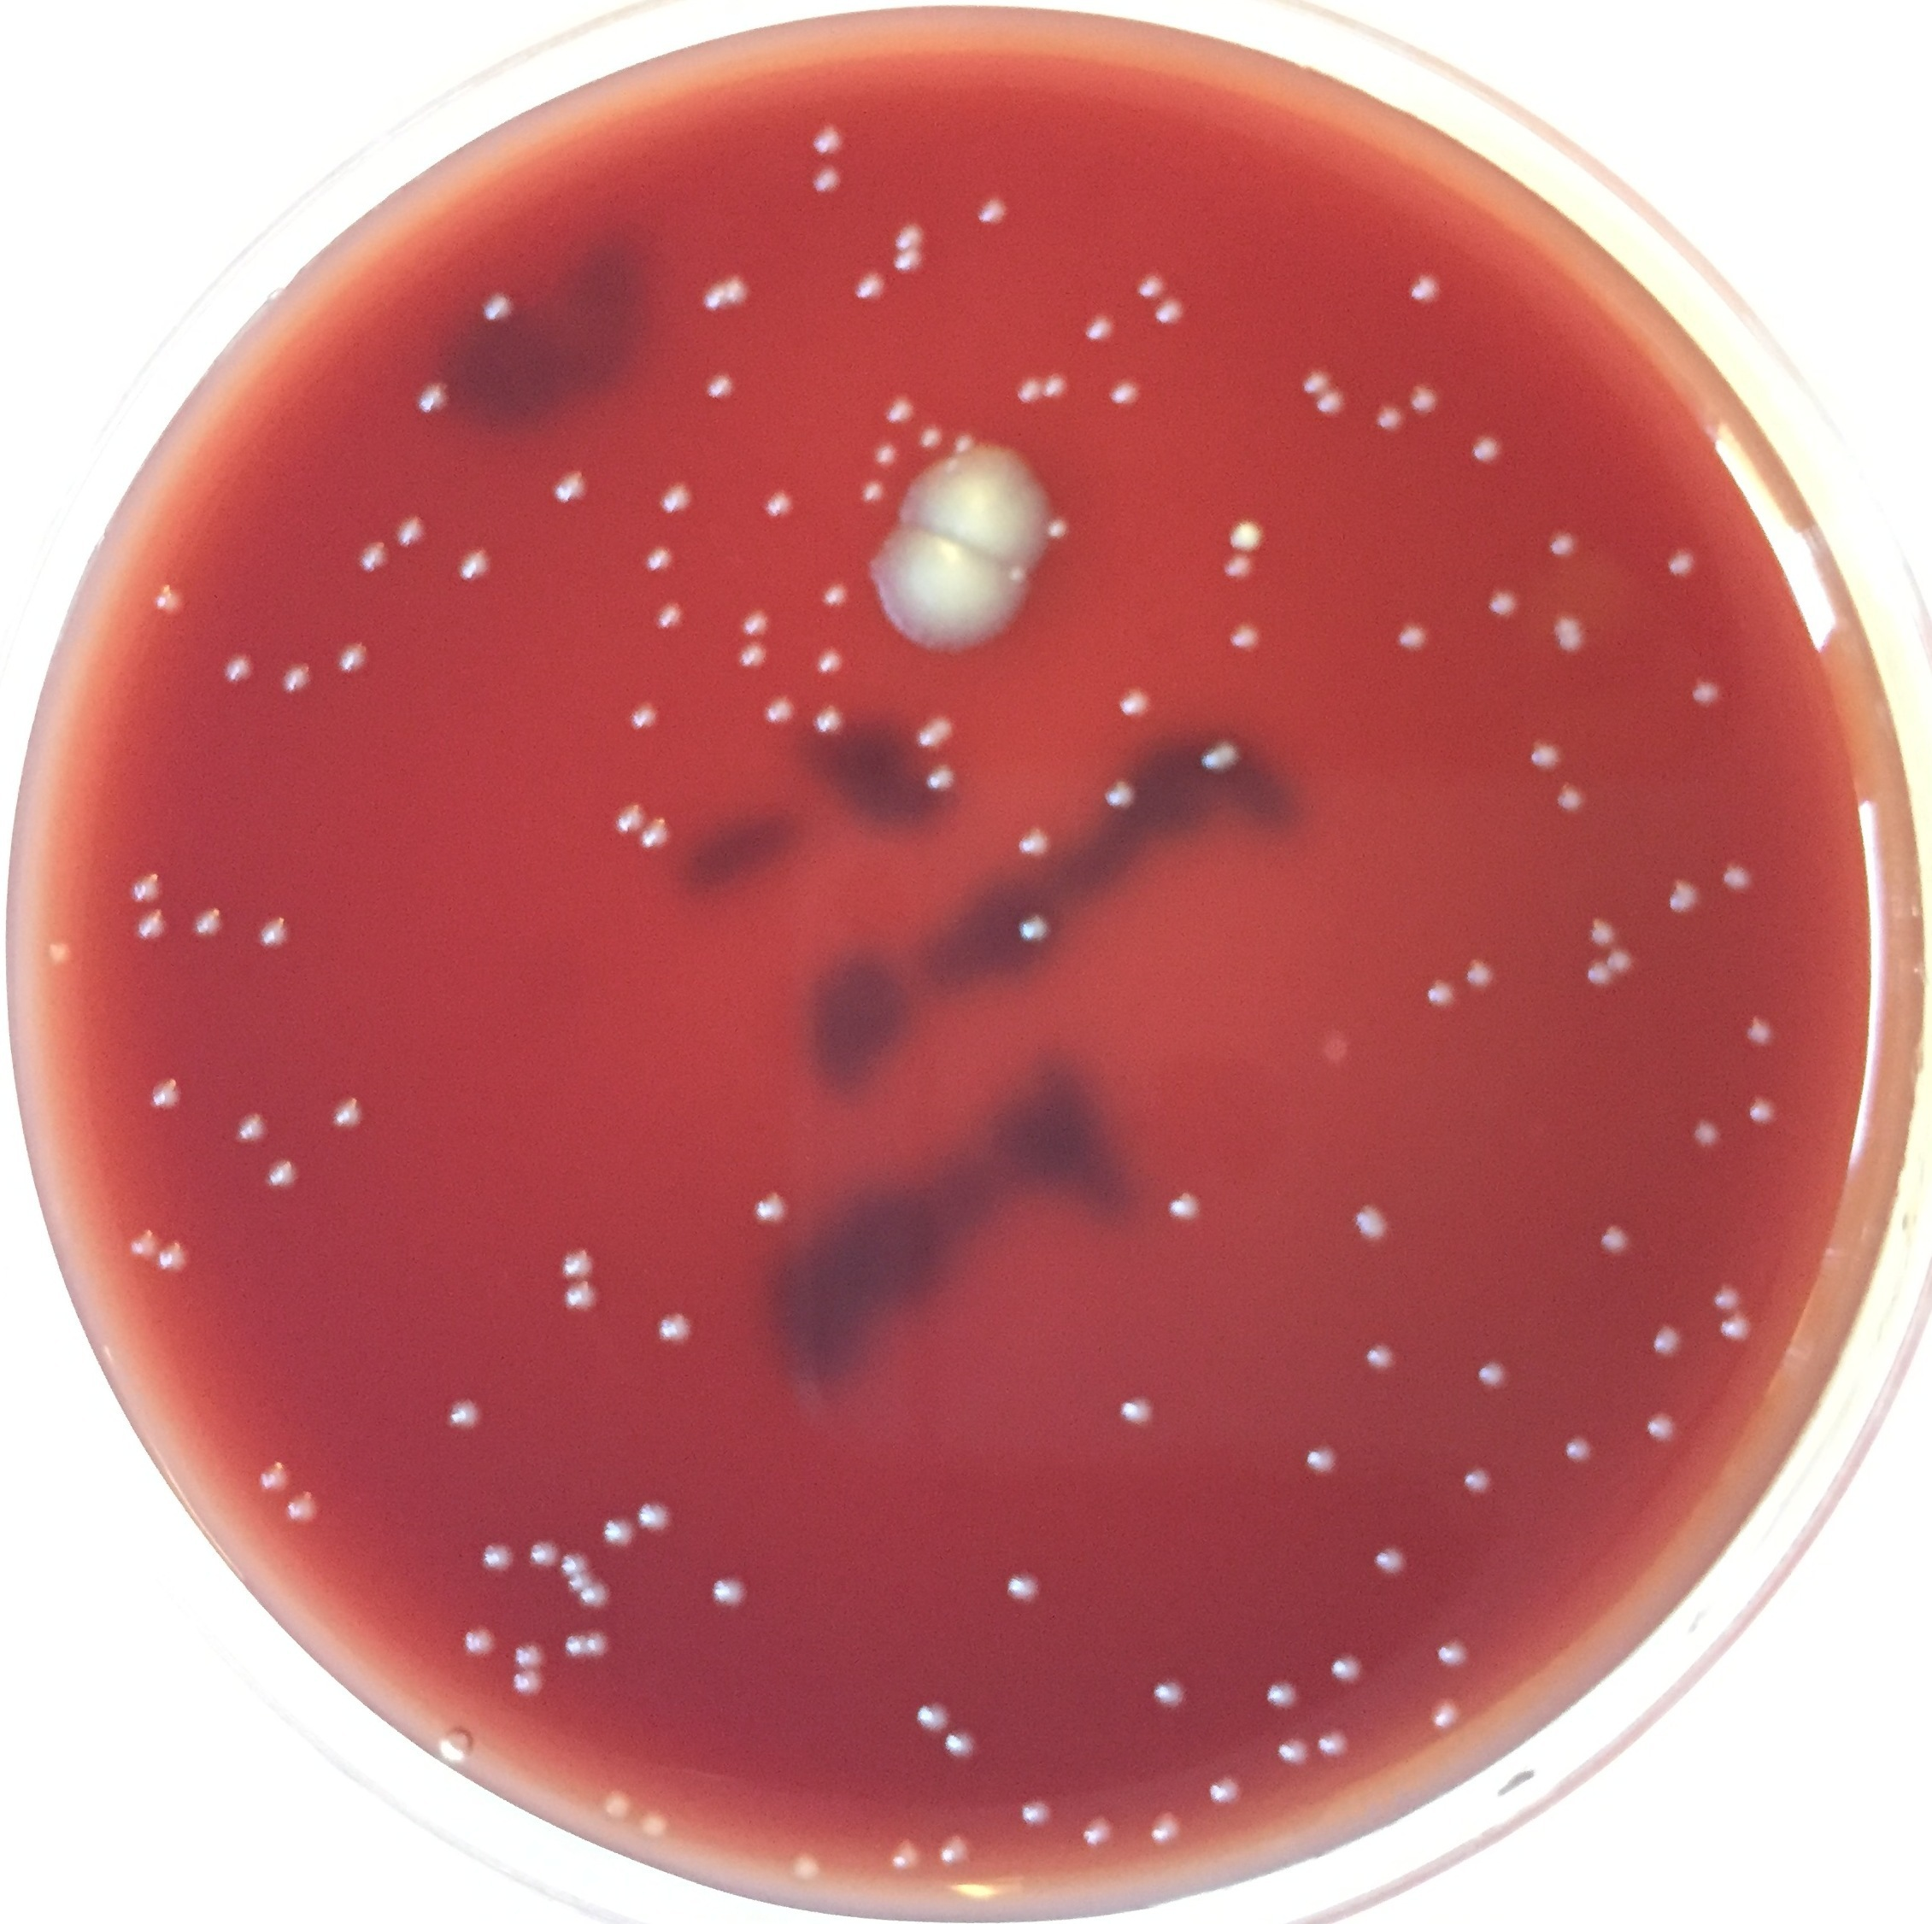sp06: (1350, 1198, 1403, 1244), (448, 541, 495, 587), (546, 465, 596, 509), (471, 284, 520, 328), (1001, 1565, 1051, 1607), (1301, 1438, 1349, 1480), (753, 1188, 797, 1232), (282, 1487, 330, 1528), (633, 1806, 682, 1845), (1546, 610, 1585, 659), (1119, 1392, 1163, 1434), (210, 654, 259, 691), (326, 1089, 368, 1131), (1361, 1336, 1405, 1376), (1417, 974, 1461, 1015), (1014, 821, 1054, 865), (333, 638, 377, 678), (1077, 312, 1123, 351), (152, 1237, 199, 1274), (231, 1108, 271, 1151), (130, 906, 173, 946), (636, 1498, 680, 1536), (559, 1246, 603, 1284), (654, 1309, 700, 1346), (1743, 1087, 1784, 1128), (259, 1156, 301, 1195), (1162, 1188, 1204, 1226), (933, 1834, 977, 1871), (1738, 1015, 1782, 1052), (1200, 738, 1245, 775), (123, 869, 167, 906), (1662, 544, 1703, 583), (1111, 684, 1151, 722), (395, 513, 434, 553), (448, 1394, 485, 1436), (1102, 775, 1144, 812), (658, 479, 700, 516), (758, 485, 800, 522), (1433, 1633, 1477, 1669), (851, 268, 895, 303), (279, 662, 323, 698), (1014, 914, 1058, 950), (254, 1457, 293, 1496), (509, 1635, 548, 1674), (1274, 1734, 1313, 1772), (1668, 877, 1706, 916), (1484, 581, 1523, 620), (612, 802, 650, 840), (707, 1575, 747, 1612), (807, 122, 848, 159), (1327, 1653, 1371, 1686), (1525, 738, 1569, 772), (252, 914, 296, 948), (601, 1513, 640, 1550), (915, 1697, 952, 1735), (1475, 1355, 1514, 1392), (1558, 1429, 1595, 1468), (1595, 1221, 1634, 1258), (1225, 513, 1264, 550), (122, 1226, 162, 1262), (1206, 1774, 1246, 1809), (1267, 1676, 1308, 1711), (1315, 1725, 1356, 1760), (1371, 1542, 1412, 1577), (1650, 1320, 1685, 1360), (1467, 432, 1507, 467), (913, 714, 954, 749), (409, 381, 450, 416), (353, 536, 395, 569), (148, 1075, 185, 1112), (1426, 1693, 1463, 1730), (462, 1621, 497, 1660), (788, 1846, 827, 1882), (1542, 529, 1581, 564), (1105, 374, 1144, 409), (1407, 271, 1442, 310), (1222, 550, 1257, 588), (719, 273, 754, 312), (1370, 400, 1410, 433), (152, 585, 192, 618), (885, 1843, 927, 1875), (601, 1790, 636, 1827), (945, 1725, 980, 1762), (1460, 1464, 1497, 1499), (1133, 270, 1170, 305), (1155, 294, 1192, 329), (1405, 379, 1442, 414), (508, 1665, 546, 1698), (1717, 1311, 1756, 1344), (924, 759, 962, 793), (703, 370, 742, 403), (881, 393, 920, 426), (1551, 784, 1592, 816), (1394, 622, 1437, 652), (1646, 1406, 1682, 1441), (1601, 941, 1636, 976), (1720, 862, 1756, 897), (869, 439, 904, 474), (481, 1542, 518, 1575), (1149, 1674, 1188, 1706), (813, 705, 851, 736), (189, 906, 227, 937), (562, 1277, 603, 1307), (1297, 365, 1334, 396), (48, 937, 79, 974), (576, 1580, 615, 1610), (1077, 1815, 1116, 1845), (1148, 1809, 1183, 1841), (1463, 958, 1498, 990), (624, 701, 661, 731), (636, 819, 673, 849), (1685, 678, 1726, 705), (1021, 1794, 1052, 1827), (1585, 914, 1618, 946), (1040, 368, 1074, 400), (1319, 386, 1352, 418), (975, 196, 1008, 227), (1689, 1117, 1724, 1147), (818, 580, 853, 610), (1227, 624, 1264, 652), (816, 650, 853, 678), (897, 241, 925, 278), (531, 1538, 562, 1570), (811, 166, 843, 197), (892, 220, 924, 252), (1038, 514, 1072, 544), (654, 604, 687, 634), (758, 696, 793, 724), (554, 1550, 591, 1577), (1579, 958, 1611, 988), (645, 543, 677, 573), (1708, 1283, 1743, 1309), (562, 1566, 599, 1591), (587, 1624, 615, 1656), (1003, 562, 1031, 594), (954, 426, 980, 460), (703, 282, 732, 308), (1015, 375, 1040, 405), (739, 608, 769, 633), (735, 641, 767, 662), (561, 1633, 587, 1658), (860, 477, 885, 504), (918, 425, 943, 446)
